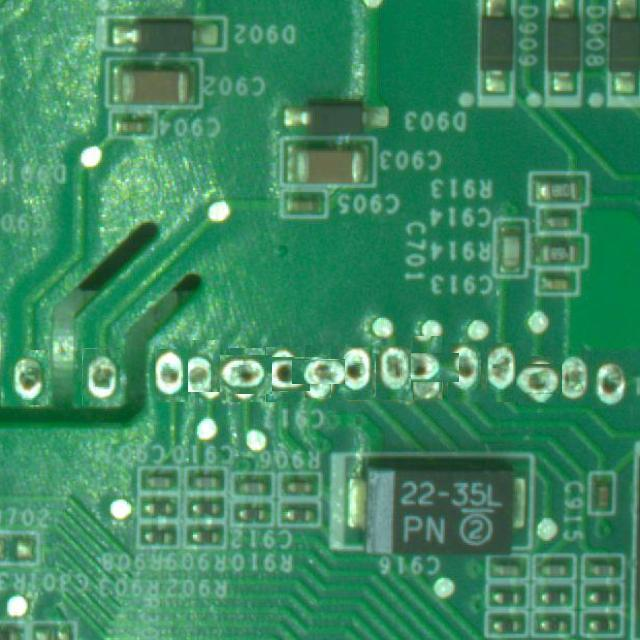lack_of_part: (82, 348, 120, 406), (592, 352, 630, 409), (404, 345, 451, 391), (222, 352, 269, 398), (448, 344, 481, 404), (261, 352, 305, 397), (12, 350, 48, 405), (336, 347, 372, 400), (376, 346, 411, 400), (155, 349, 188, 402), (487, 344, 516, 404), (188, 340, 220, 392), (299, 352, 338, 391), (520, 360, 558, 399)
